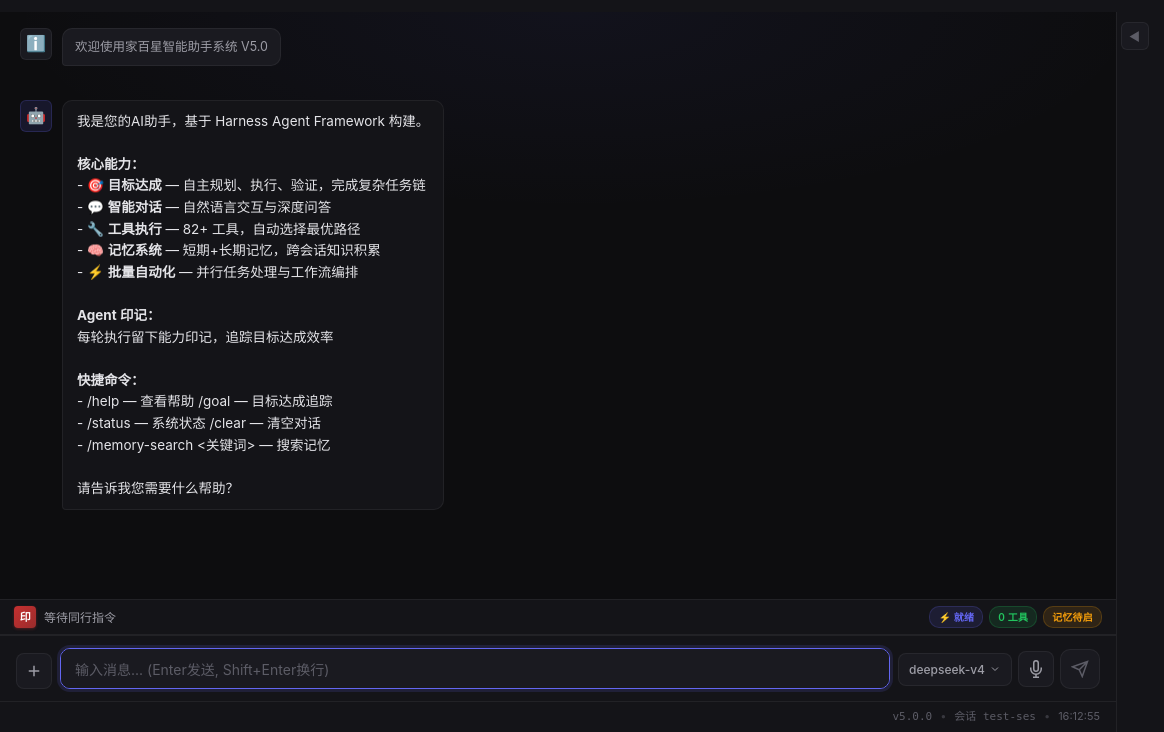
Scenario: DesktopDashboard › sends a message and displays backend response
In the text box with placeholder "输入消息... (Enter发送, Shift+Enter换行)": (475,669) [60,648,890,689], type "你好"
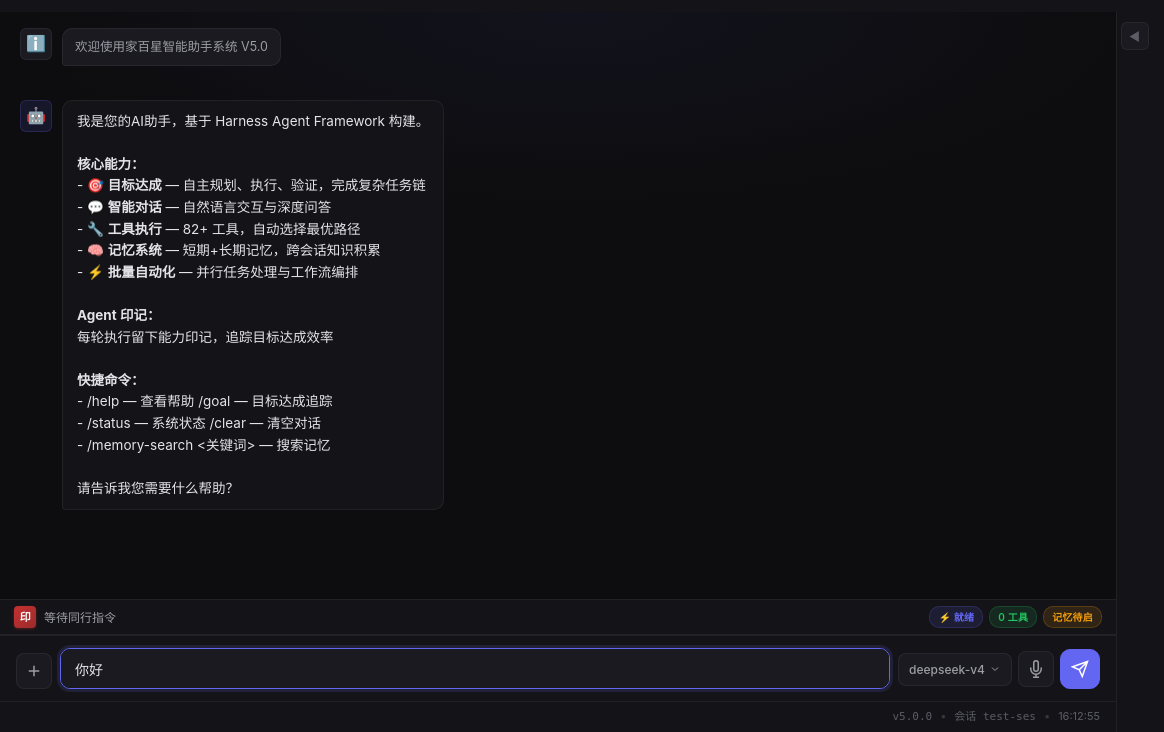
Click the button with class "hermes-send-btn": (1080,669) [1060,649,1100,689]
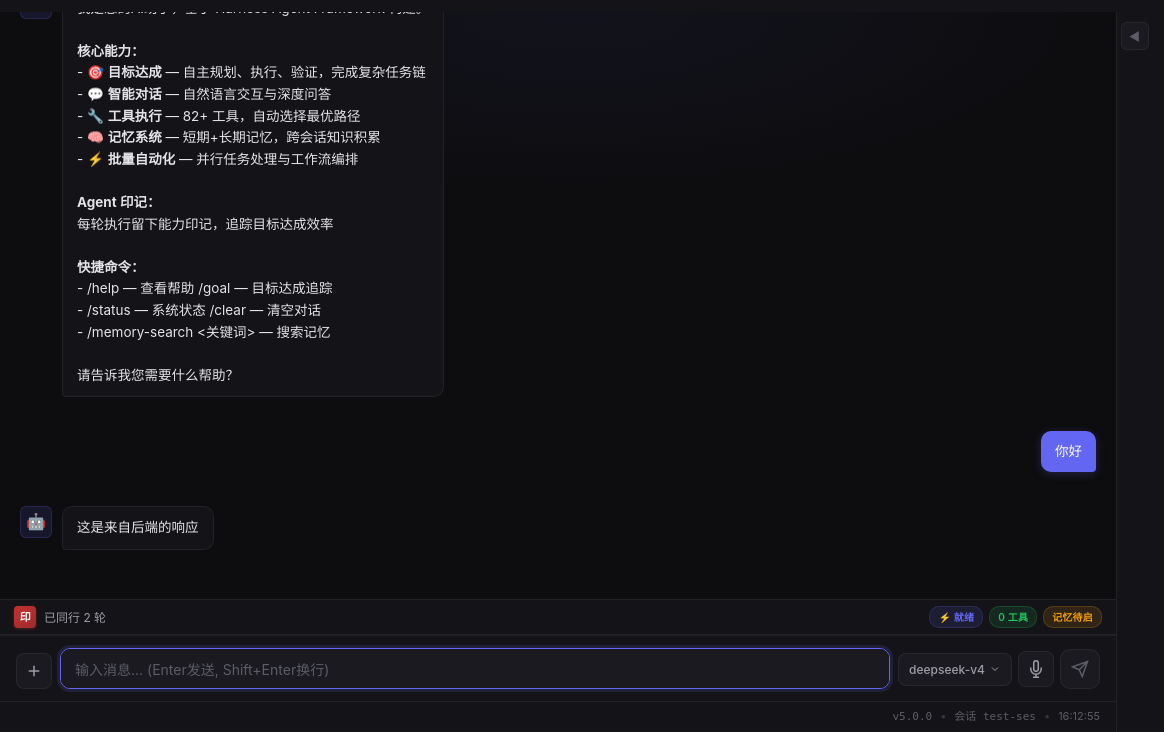
expect the text "你好" is shown: met, box [1041,431,1096,472]
expect the text "这是来自后端的响应" is shown: met, box [62,506,214,550]
